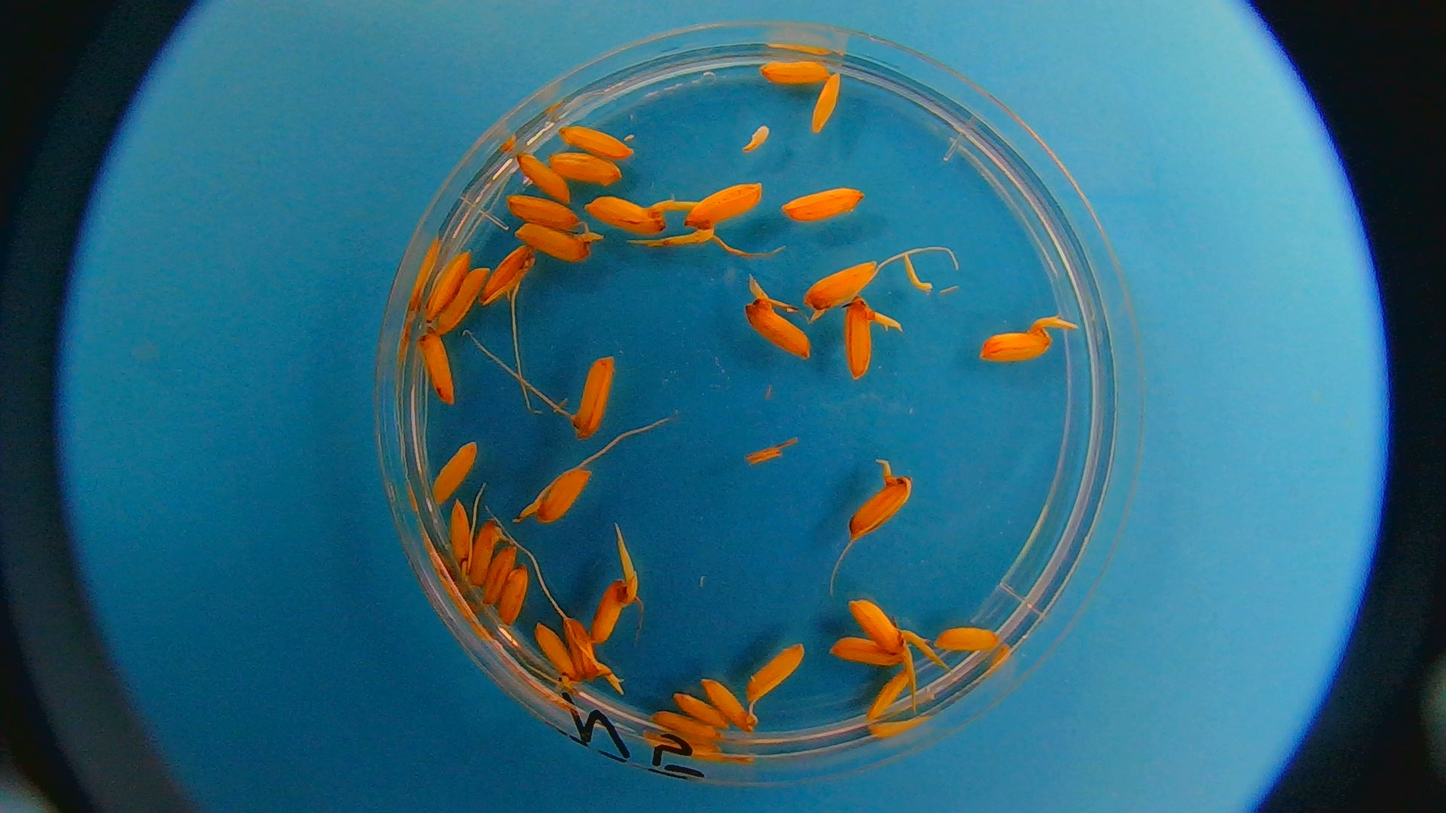no: (743, 642, 813, 704), (435, 265, 493, 337), (426, 440, 483, 506), (413, 327, 459, 408), (703, 675, 767, 732), (423, 245, 472, 319), (502, 190, 584, 233), (779, 184, 864, 224), (804, 66, 849, 139), (557, 121, 634, 159), (861, 668, 912, 724), (515, 152, 573, 201), (932, 622, 1005, 659), (484, 540, 521, 611), (754, 53, 828, 88), (547, 151, 624, 184), (670, 691, 731, 728), (832, 636, 902, 668), (647, 711, 719, 741), (499, 560, 529, 631)
yes: (849, 470, 911, 541), (803, 257, 880, 312), (743, 300, 813, 360), (686, 182, 765, 233), (574, 349, 617, 440), (844, 599, 912, 656), (585, 577, 638, 649), (479, 241, 537, 306), (584, 192, 670, 233), (536, 462, 590, 526), (515, 221, 593, 265), (530, 617, 577, 687), (559, 611, 602, 683), (468, 514, 504, 594), (442, 496, 476, 580), (844, 293, 878, 376), (982, 329, 1050, 361)
